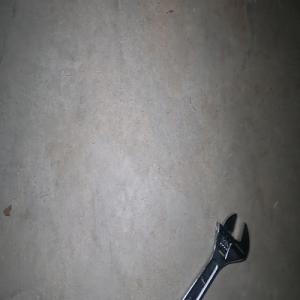Wrench: (181, 213, 249, 300)
